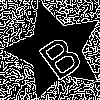B: (30, 25, 86, 83)
